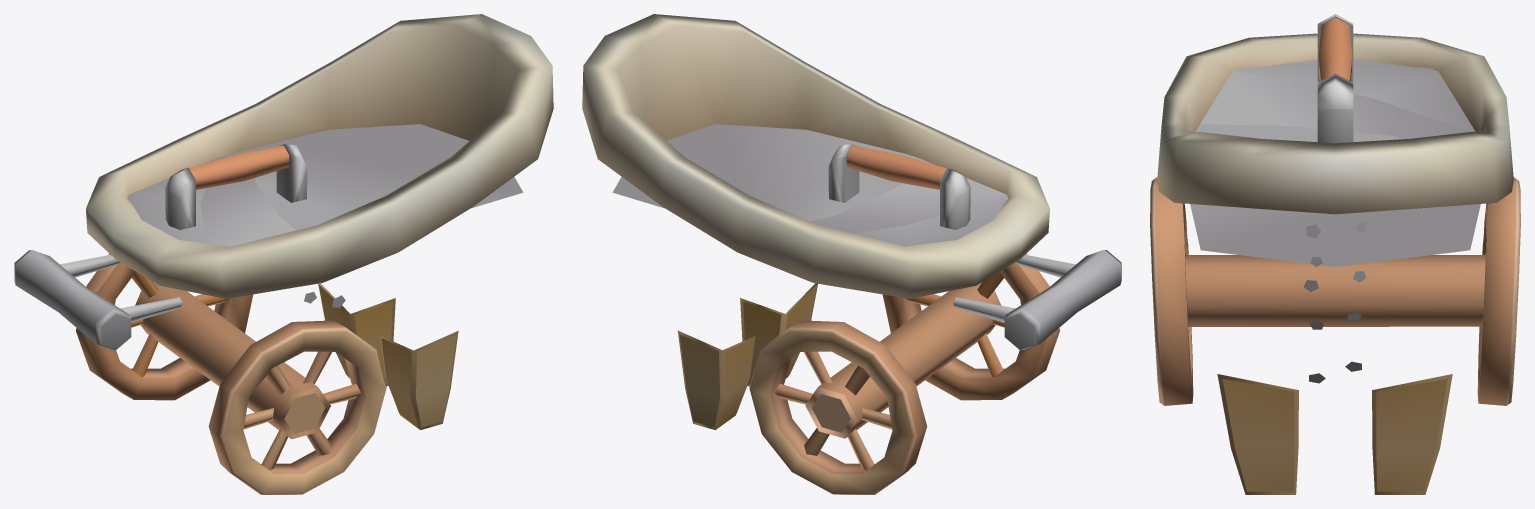
The model's file is BeachMarket.glb.
3 views of the same model, side by side, from view 1: azimuth 30°, elevation 25°; view 2: azimuth 150°, elevation 25°; view 3: azimuth 270°, elevation 25° (orthographic). The views are drawn at different scales.
Visible parts, largest first — view 1: BeachMarket; view 2: BeachMarket; view 3: BeachMarket.
Boxes of the visible parts, <box> form: BeachMarket: <box>14,14,553,494</box>; BeachMarket: <box>582,14,1121,494</box>; BeachMarket: <box>1150,14,1520,494</box>.
Bounding box in the file's own units: 1.7 × 1.15 × 0.9347.
